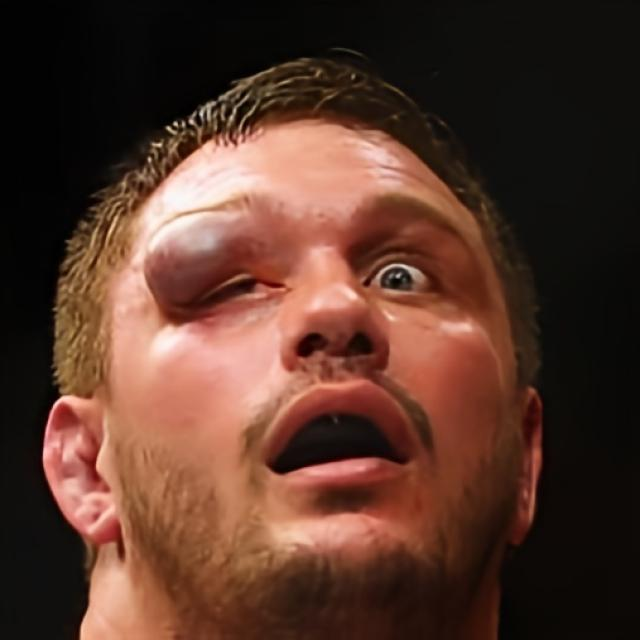Fear: (112, 104, 514, 612)
